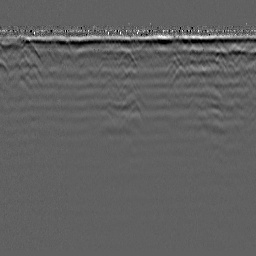cavity: (118, 50, 138, 68)
